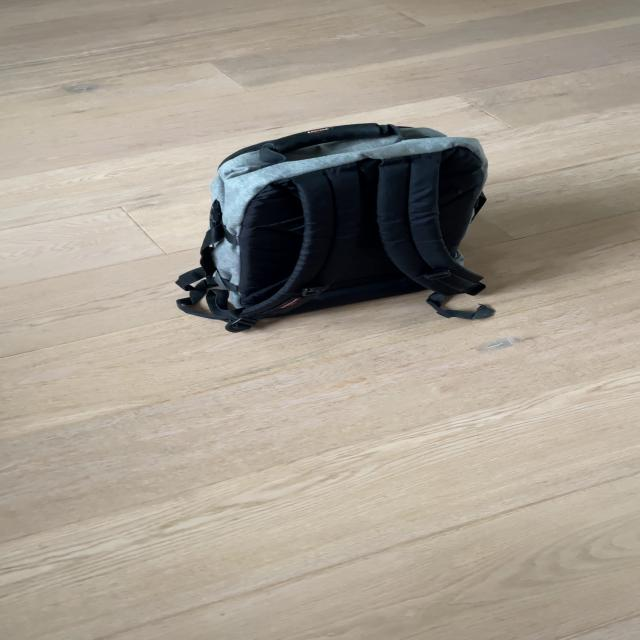backpack: (166, 113, 507, 335)
